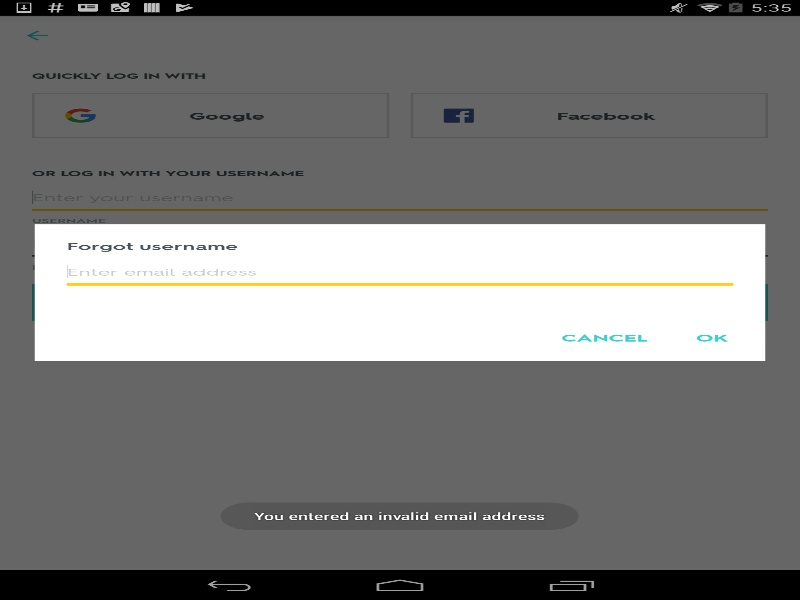Button: (550, 319, 658, 355), (669, 319, 754, 355)
Input: (66, 265, 733, 278)
